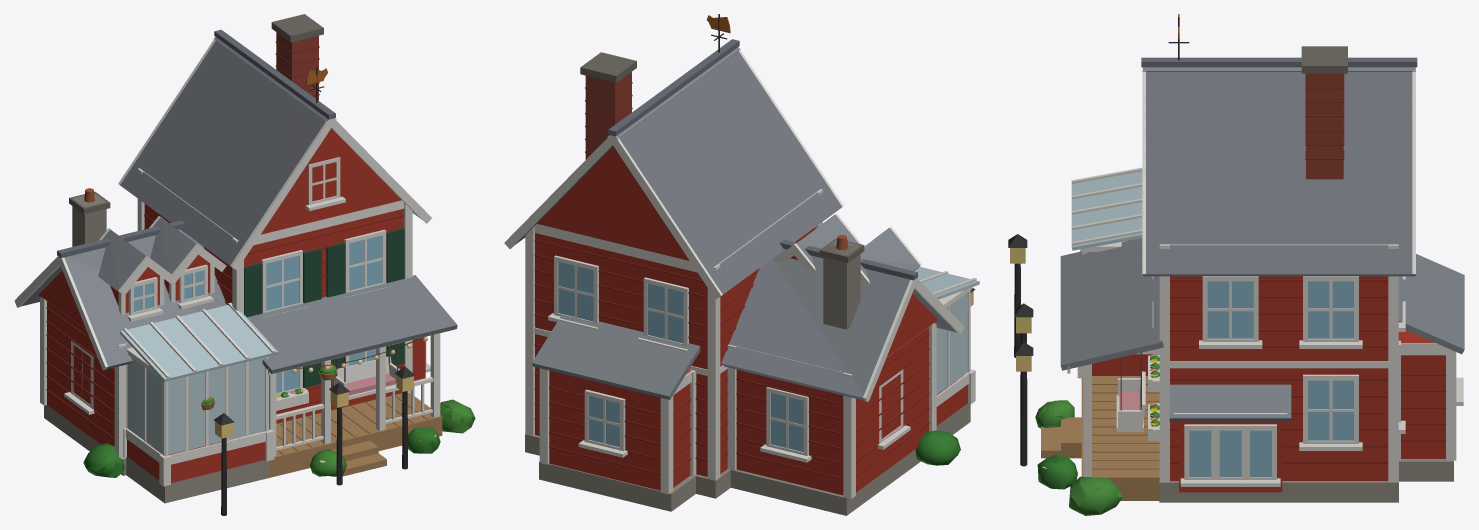
Rendered from farmhouse-3.glb.
3 renders of one model, left to right at view 1: azimuth 30°, elevation 25°; view 2: azimuth 150°, elevation 25°; view 3: azimuth 270°, elevation 25°, orthographic. The views are drawn at different scales.
Parts seen in each view (by area): view 1: building-farmhouse-3, building-farmhouse-3-far; view 2: building-farmhouse-3, building-farmhouse-3-far; view 3: building-farmhouse-3, building-farmhouse-3-far.
Boxes of the visible parts, <box> form: building-farmhouse-3: <box>14,14,475,515</box>; building-farmhouse-3-far: <box>44,29,475,503</box>; building-farmhouse-3: <box>504,14,979,515</box>; building-farmhouse-3-far: <box>511,17,974,511</box>; building-farmhouse-3: <box>1008,14,1464,515</box>; building-farmhouse-3-far: <box>1008,34,1464,513</box>.
Bounding box in the file's own units: 7.86 × 7.86 × 7.5.
